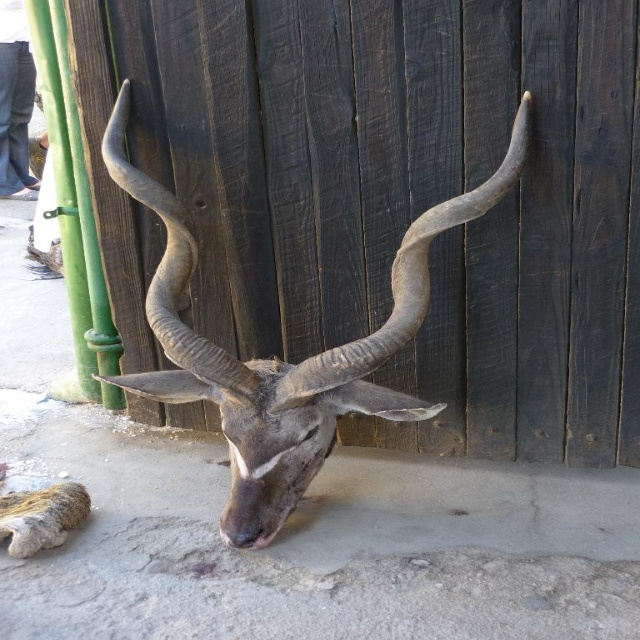Deer: (101, 78, 530, 550)
